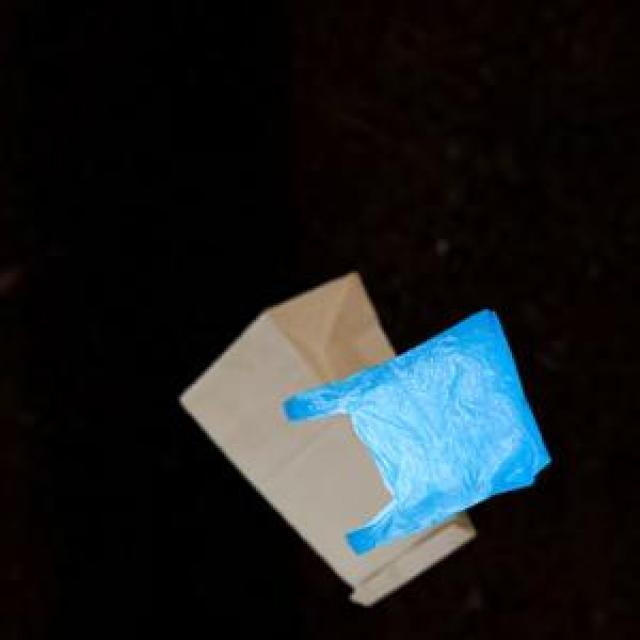paper: (177, 269, 469, 600)
